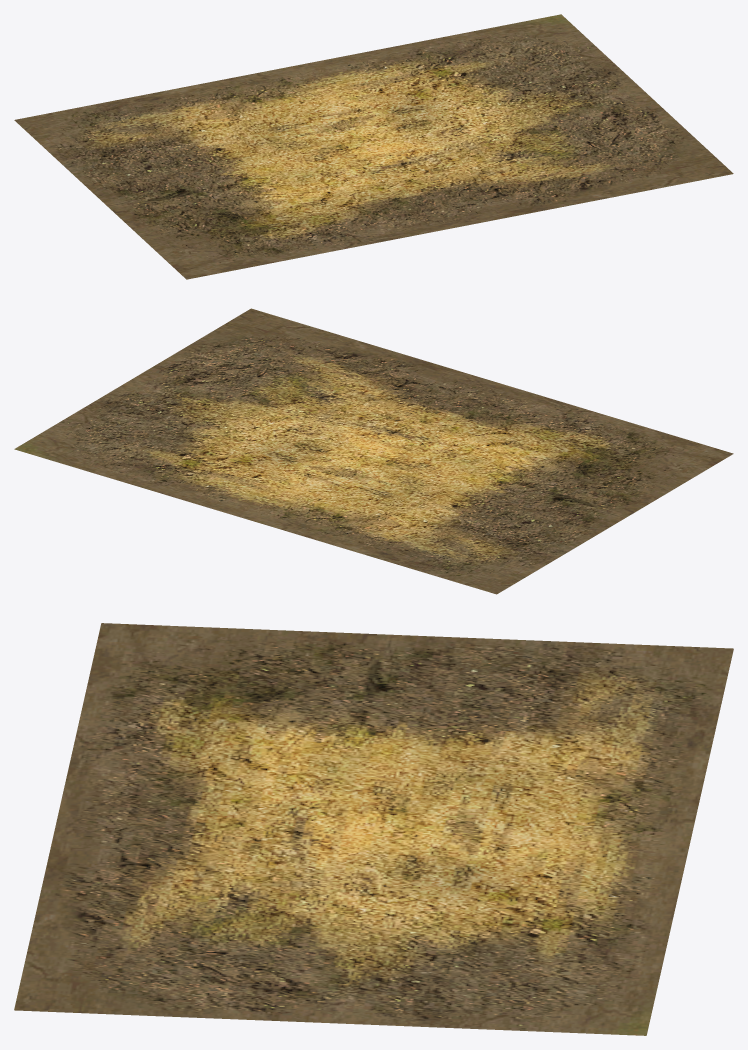
The model's file is decal_celt_farmstead.dae.
3 renders of one model, top to bottom at view 1: azimuth 30°, elevation 25°; view 2: azimuth 150°, elevation 25°; view 3: azimuth 270°, elevation 25°, orthographic. The views are drawn at different scales.
Parts seen in each view (by area): view 1: mud_farmstead; view 2: mud_farmstead; view 3: mud_farmstead.
Boxes of the visible parts, left/top/right/bottom form: mud_farmstead: left=14, top=14, right=733, bottom=279; mud_farmstead: left=14, top=308, right=733, bottom=594; mud_farmstead: left=14, top=623, right=733, bottom=1035.
Bounding box in the file's own units: 21.07 × 15.53 × 0.
